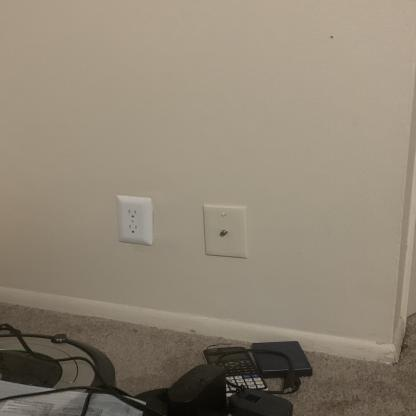OUTLET: (117, 196, 154, 244)
